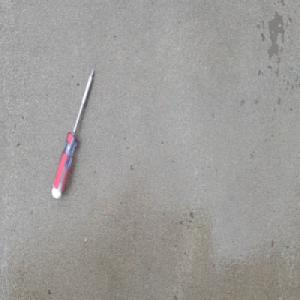Screwdriver: (50, 66, 96, 200)
